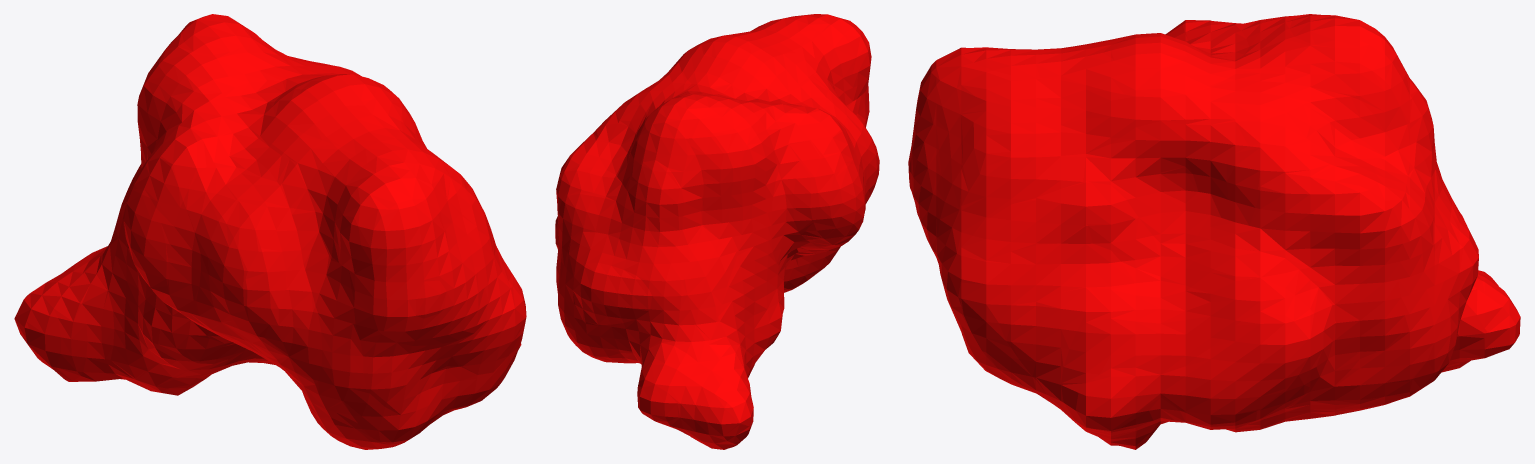
The model's file is pyrE_coarse.dae.
3 renders of one model, left to right at view 1: azimuth 30°, elevation 25°; view 2: azimuth 150°, elevation 25°; view 3: azimuth 270°, elevation 25°, orthographic. The views are drawn at different scales.
Visible parts, largest first — view 1: pyrE; view 2: pyrE; view 3: pyrE.
Part boxes in pixels (x1=…): pyrE: x1=14, y1=14, x2=526, y2=449; pyrE: x1=555, y1=14, x2=879, y2=449; pyrE: x1=908, y1=14, x2=1520, y2=449.
Bounding box in the file's own units: 40.48 × 42.72 × 60.27.
